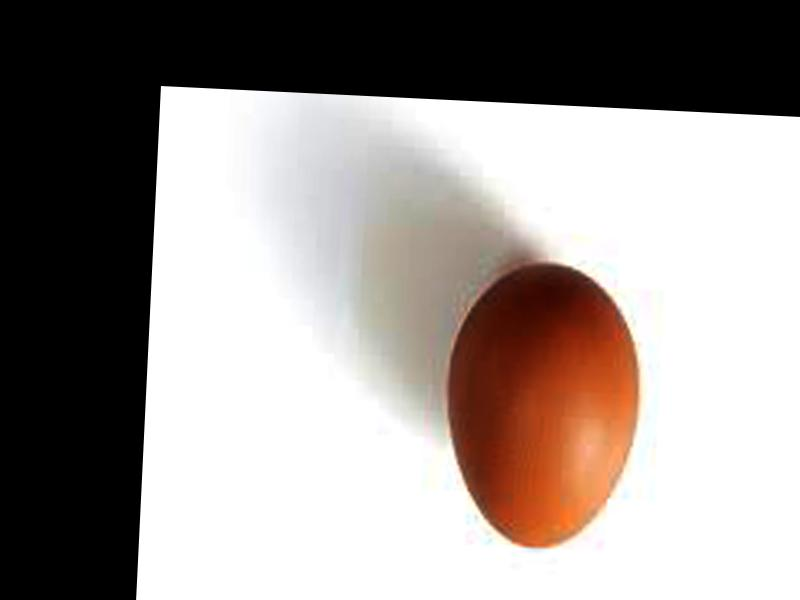Eggs: (442, 260, 641, 554)
